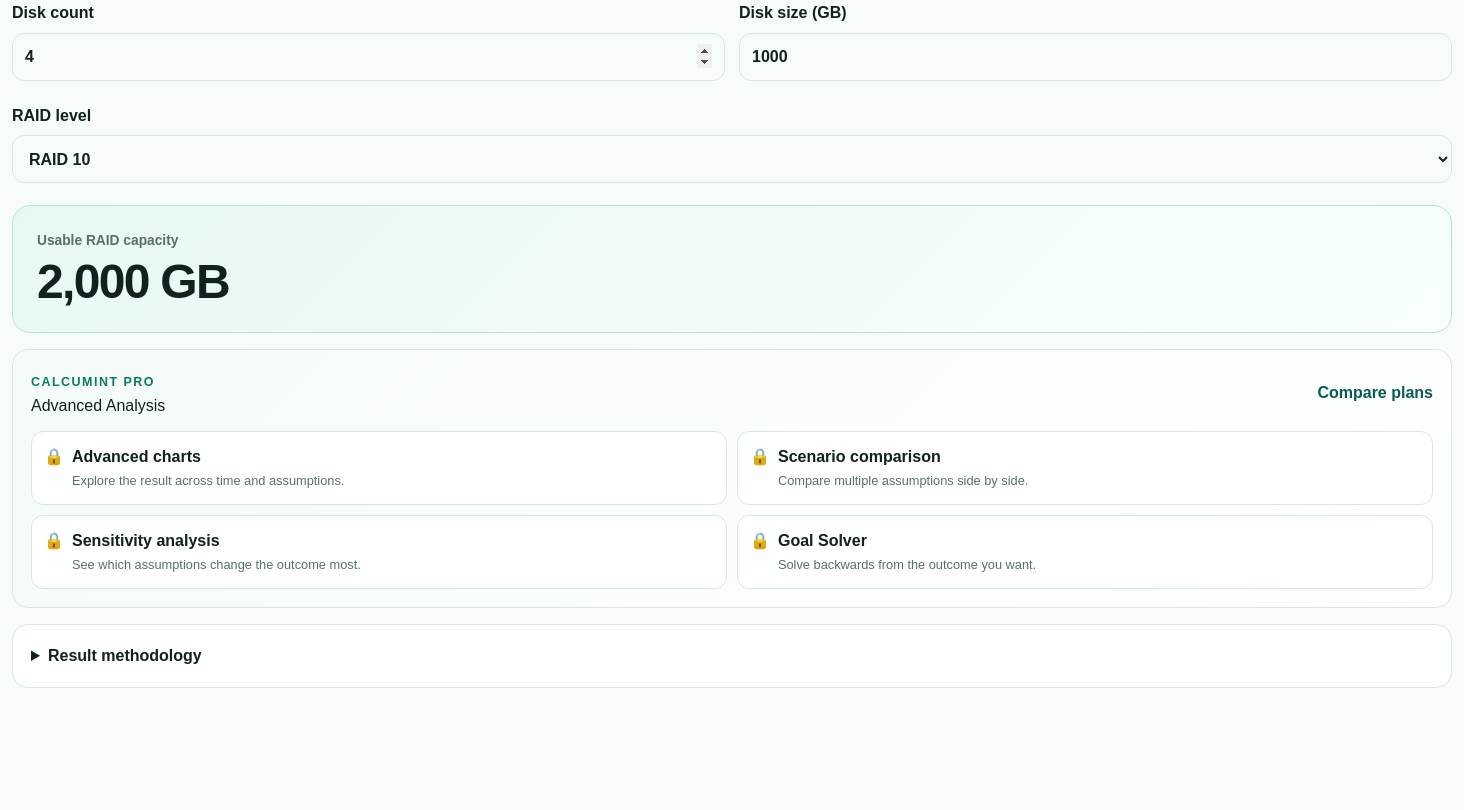
Technology final controls › supports selectable RAID levels
Select "RAID 5" in the dropdown labelled "RAID level" at (732, 159), box [12, 135, 1452, 183]
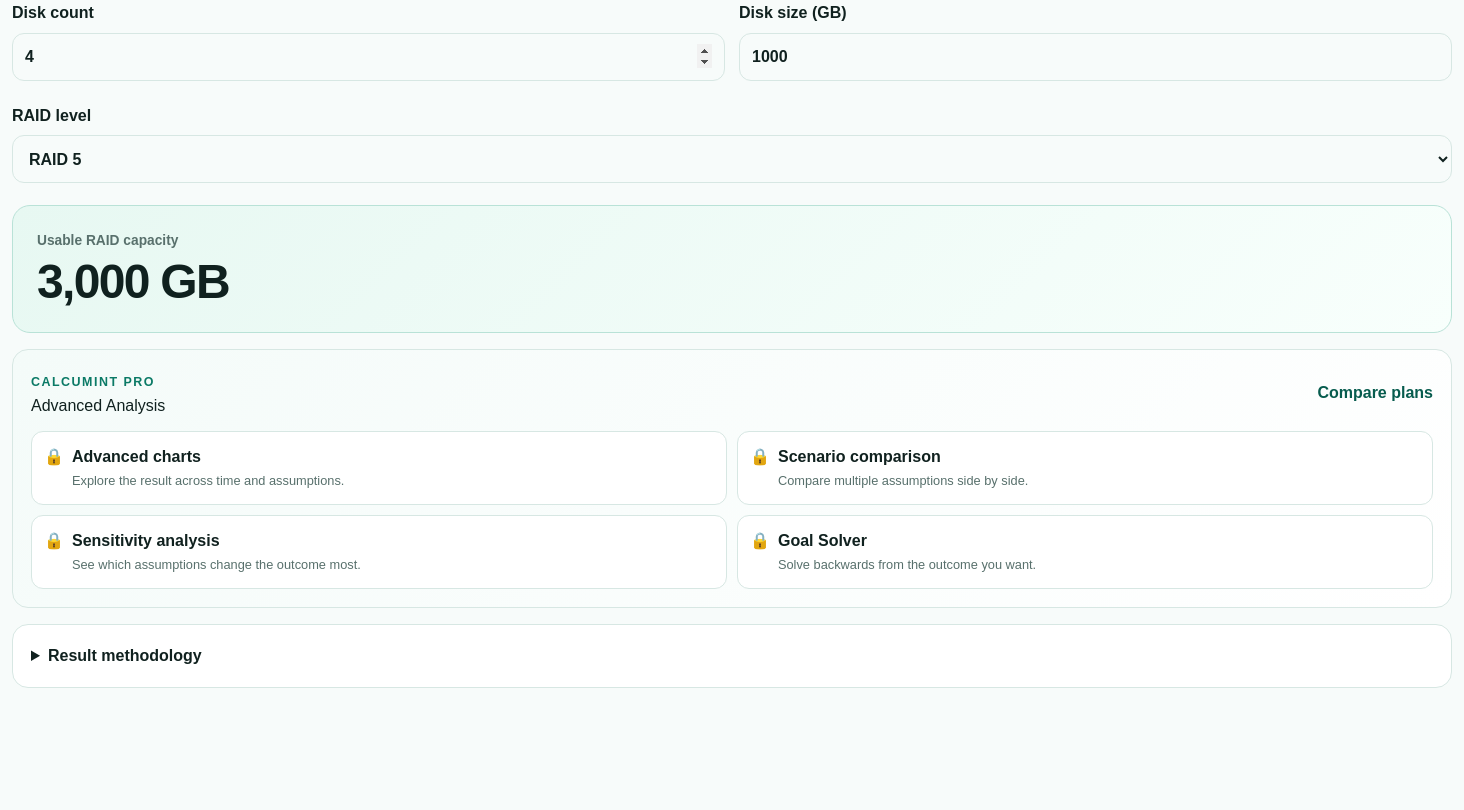
Check: the element named "Calculation result" shows "3,000", box [37, 255, 229, 308]
